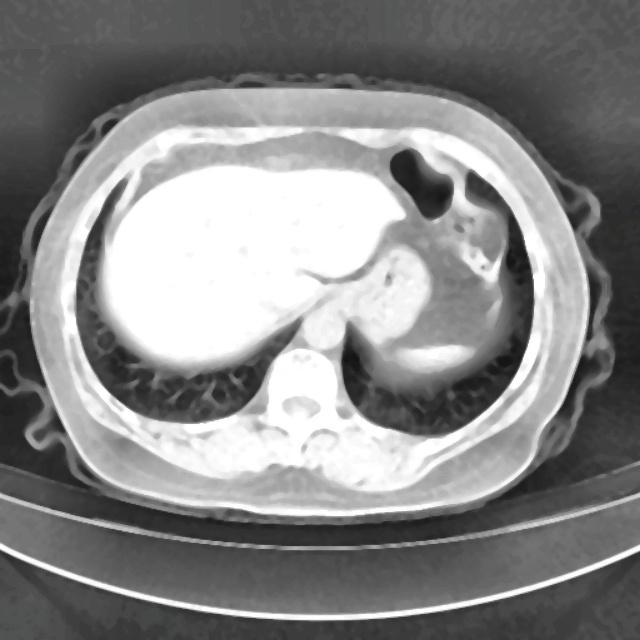covid: (14, 72, 614, 525)
